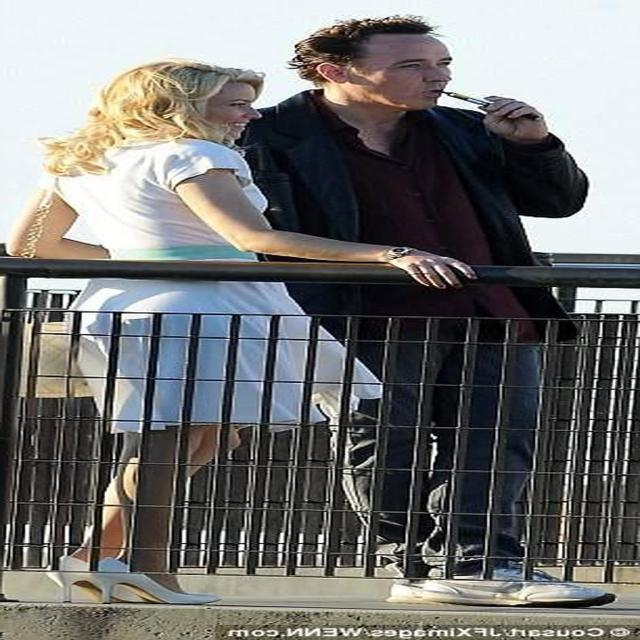smoking: (260, 12, 568, 156)
